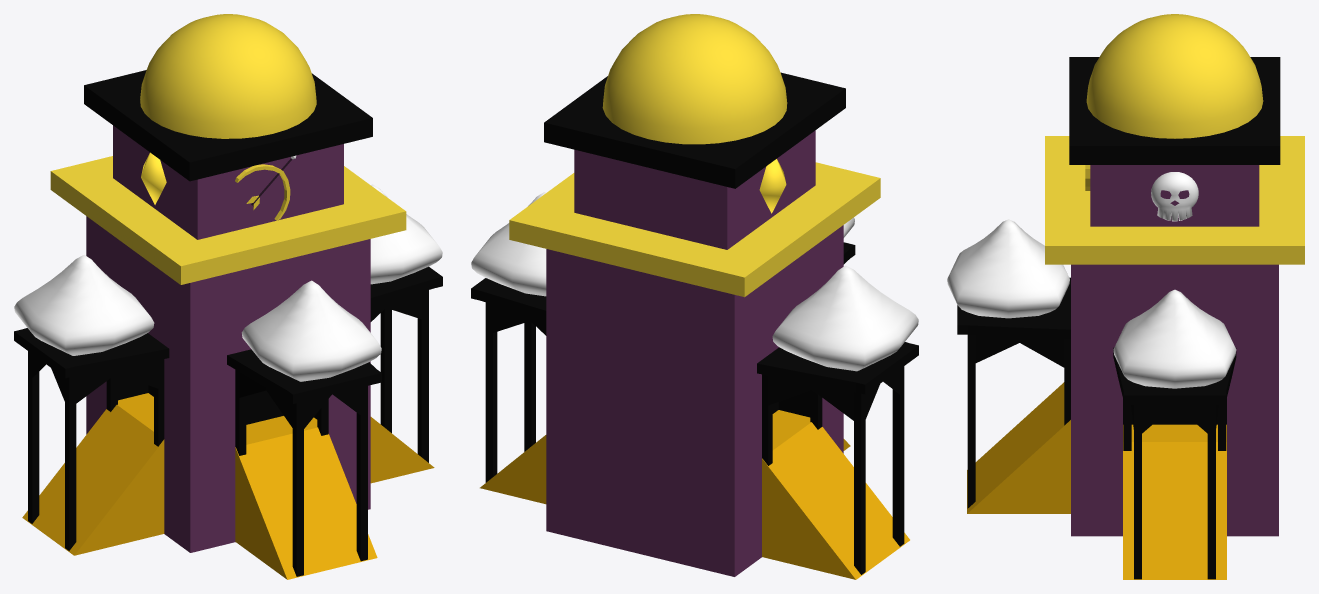
File: BuildingYellow.fbx
3 renders of one model, left to right at view 1: azimuth 30°, elevation 25°; view 2: azimuth 150°, elevation 25°; view 3: azimuth 270°, elevation 25°, orthographic. The views are drawn at different scales.
Parts seen in each view (by area): view 1: BuildingYellow; view 2: BuildingYellow; view 3: BuildingYellow.
Boxes of the visible parts, box(x1,y1,x2,y2) form: BuildingYellow: box(14, 14, 442, 579); BuildingYellow: box(471, 14, 918, 579); BuildingYellow: box(947, 14, 1304, 579).
Size of the model in its own units: 438 by 499 by 344.
